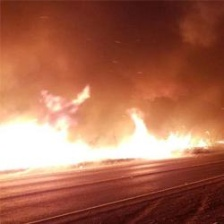fire: (1, 89, 215, 188)
